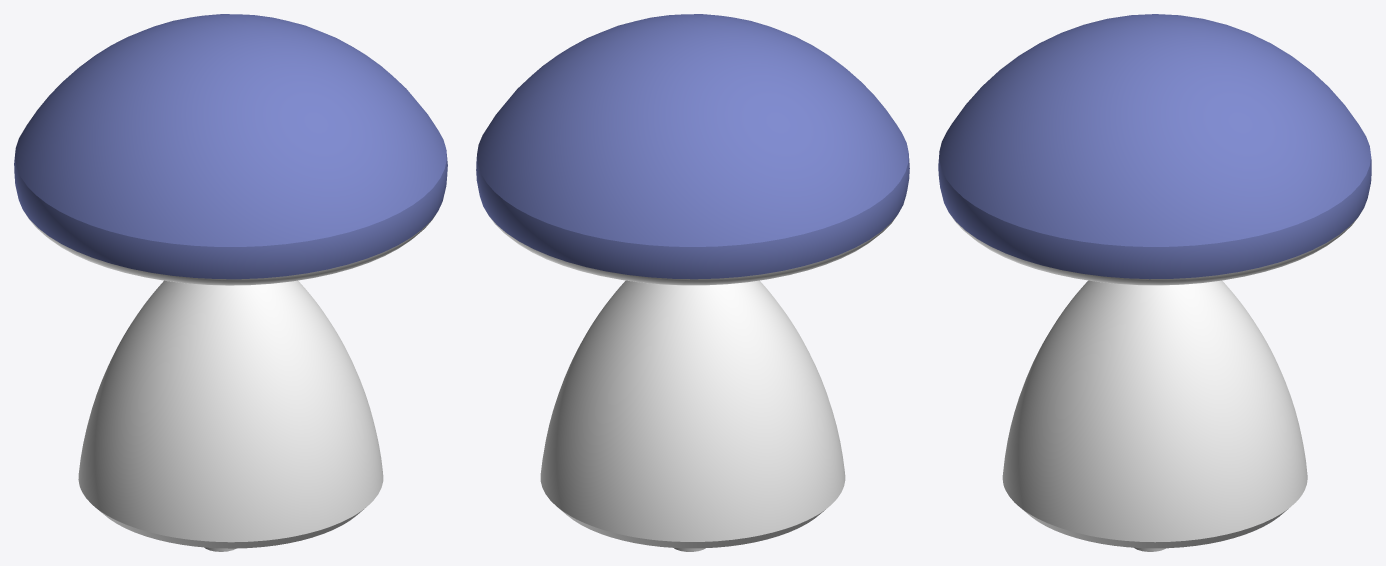
File: Luminária.glb
The picture shows the model from 3 angles, left to right: view 1: azimuth 30°, elevation 25°; view 2: azimuth 150°, elevation 25°; view 3: azimuth 270°, elevation 25°; orthographic projection.
Visible parts, largest first — view 1: Corpo1, Corpo2; view 2: Corpo1, Corpo2; view 3: Corpo1, Corpo2.
Boxes of the visible parts, x1,y1,x2,y2 form: Corpo1: [14, 14, 447, 285]; Corpo2: [78, 280, 383, 551]; Corpo1: [476, 14, 909, 285]; Corpo2: [540, 280, 845, 551]; Corpo1: [938, 14, 1371, 285]; Corpo2: [1002, 280, 1307, 551].
Size of the model in its own units: 16.96 by 20.02 by 16.95.
